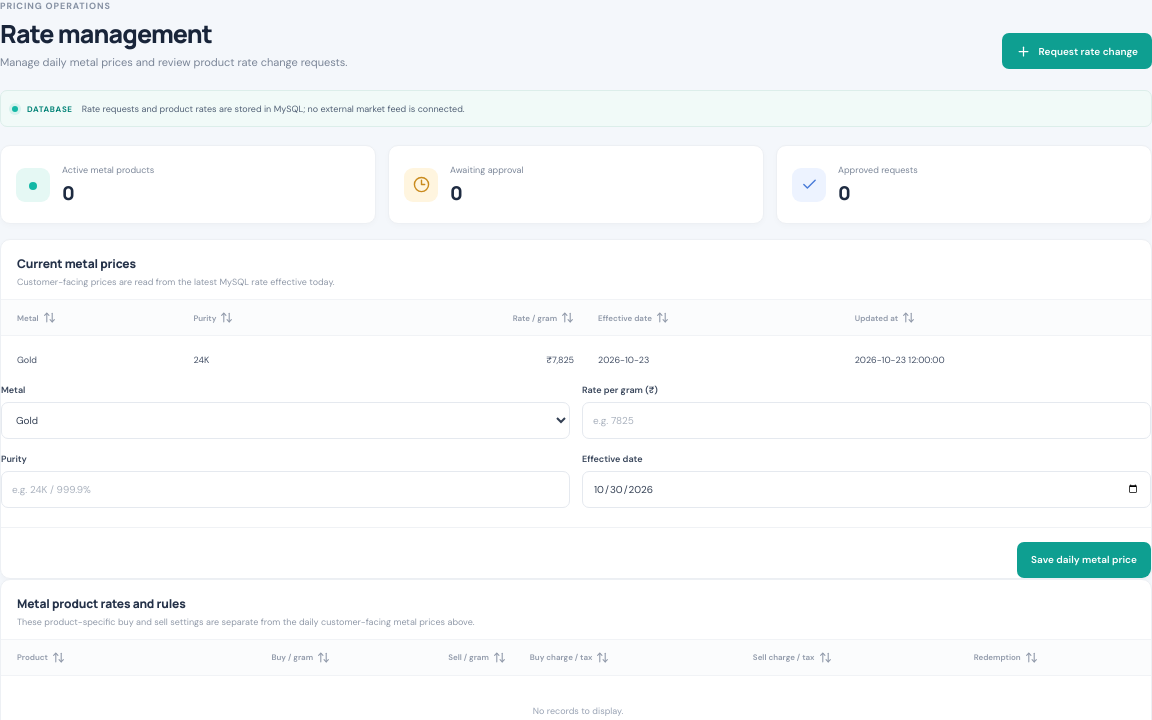
Test: daily metal prices › saves a Superadmin rate and reloads the current database rates
The width and height of the screenshot is (1152, 720).
Expected: the text "24K" is shown, [181,336,355,384]
Type "7900" into the number field labelled "Rate per gram (₹)" at (866, 420), box [582,402,1151,439]
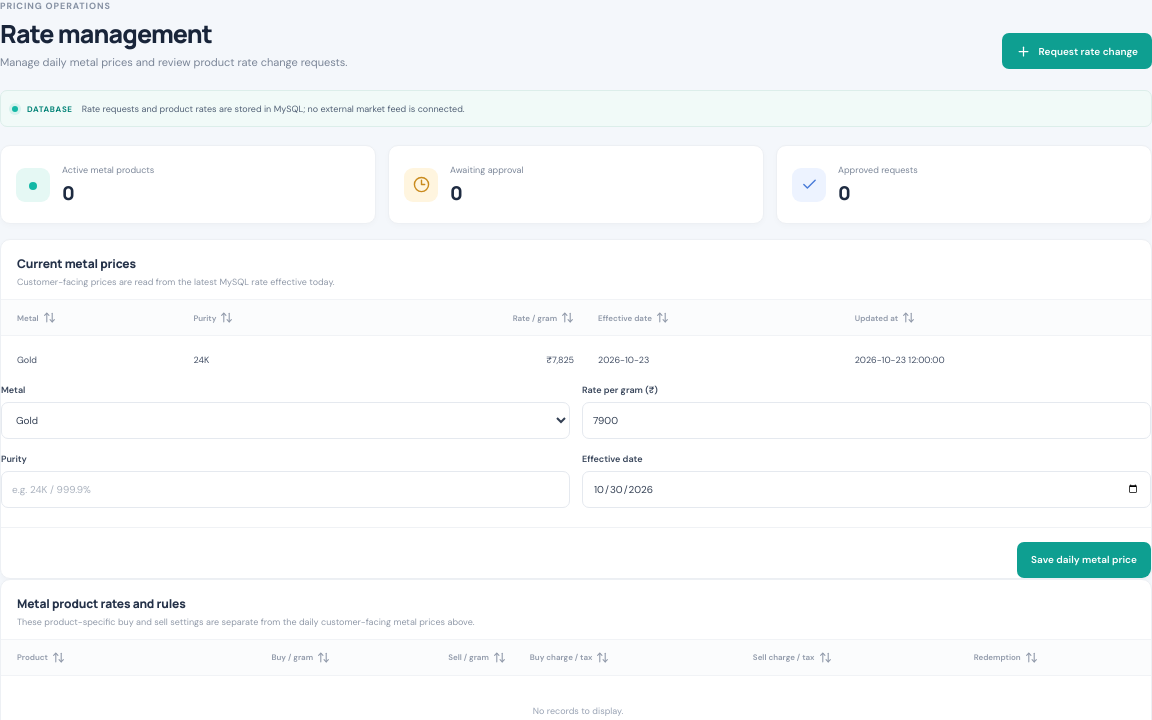
Type "999.9%" into the field labelled "Purity" at (286, 489), box [1,471,570,508]
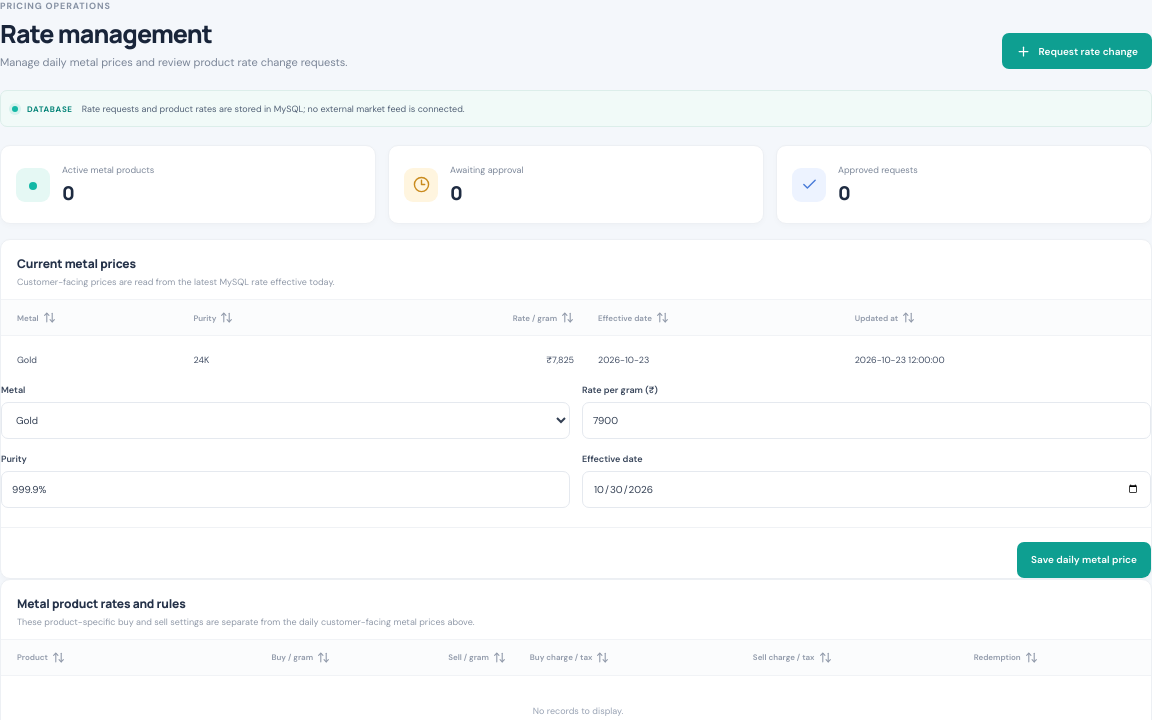
Type "2026-10-24" into the date field labelled "Effective date" at (866, 489), box [582,471,1151,508]
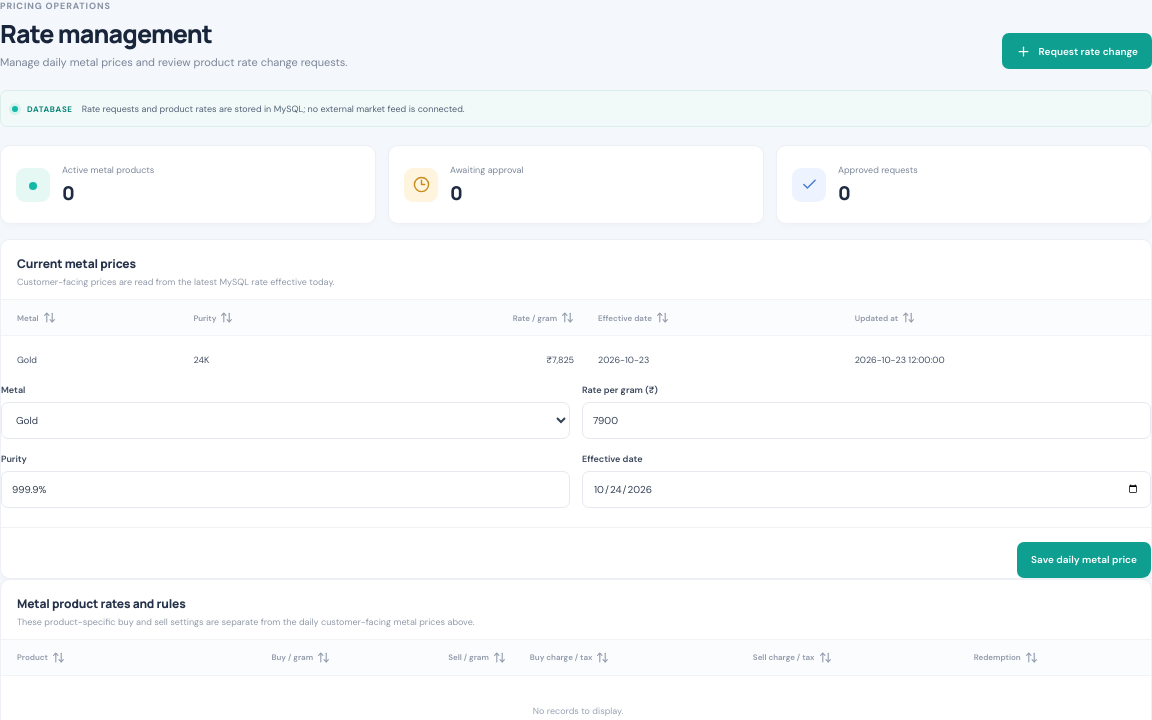
Click the button "Save daily metal price" at (1084, 560), box [1017,542,1151,578]
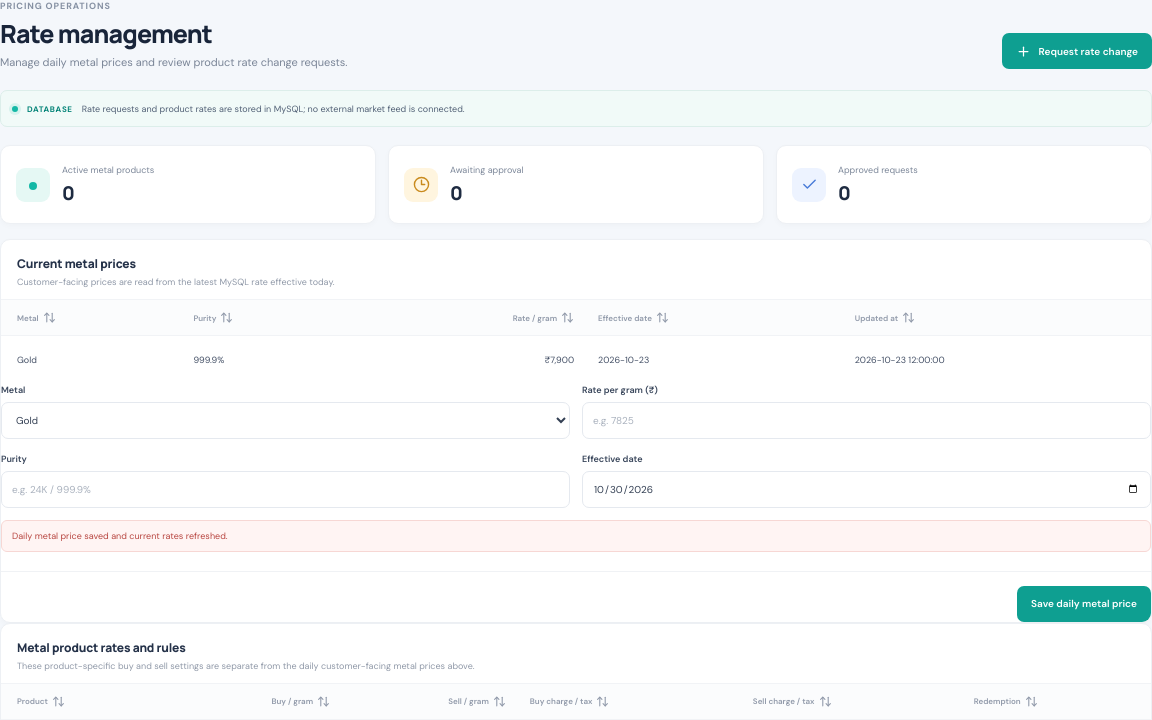
Expected: the text "Daily metal price saved and current rates refreshed." is shown, [1,520,1151,552]
Expected: the text "999.9%" is shown, [181,336,355,384]
